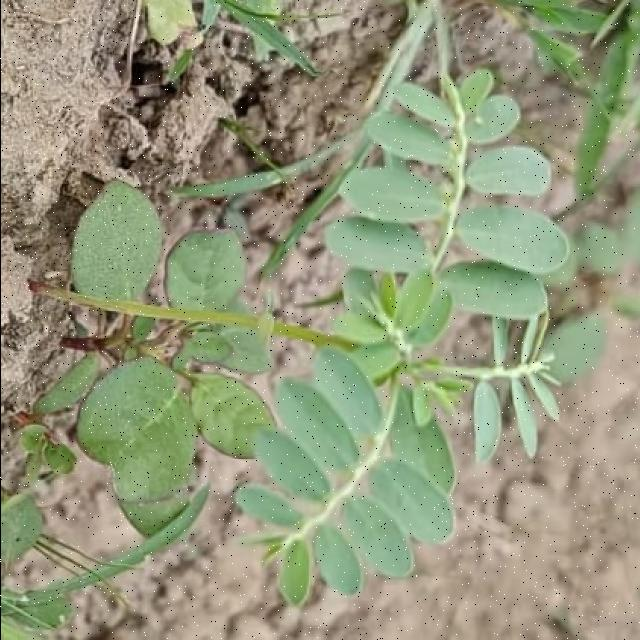plant: (31, 0, 604, 607)
